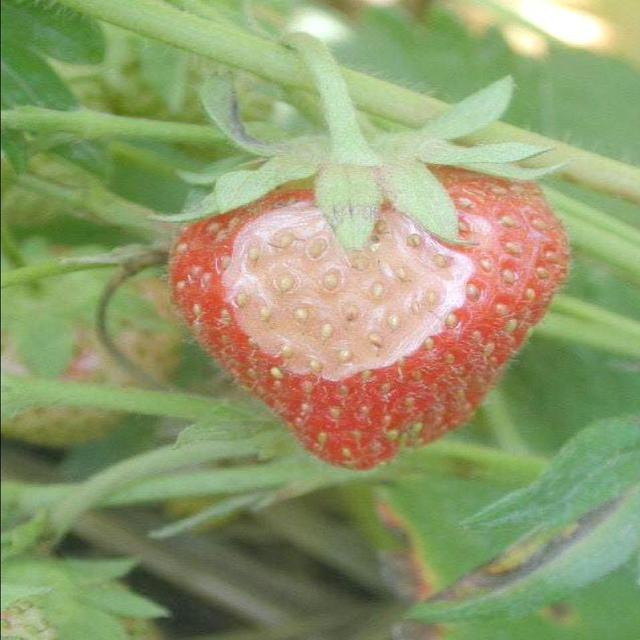Sunscald Fruit: (143, 128, 320, 252)
